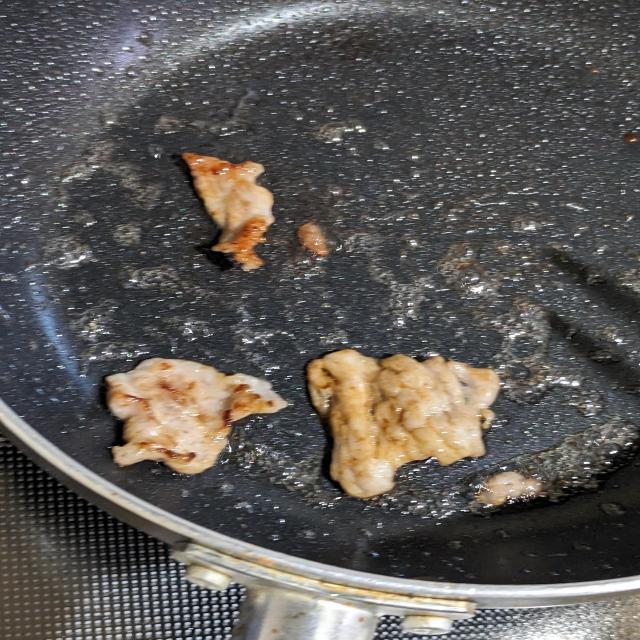OK cooked pork,: (289, 347, 509, 509), (98, 356, 305, 477), (176, 150, 281, 284)
